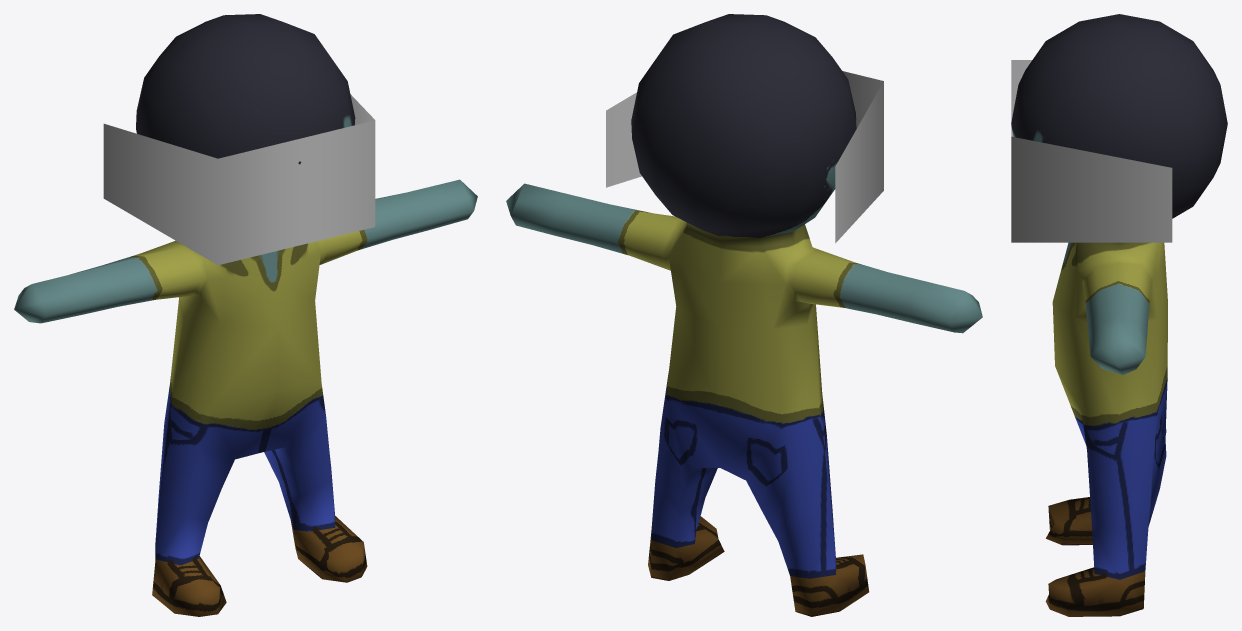
The model's file is Xavier.fbx.
3 views of the same model, side by side, from view 1: azimuth 30°, elevation 25°; view 2: azimuth 150°, elevation 25°; view 3: azimuth 270°, elevation 25° (orthographic). The views are drawn at different scales.
Parts seen in each view (by area): view 1: polySurface7, pPlane1; view 2: polySurface7, pPlane1; view 3: polySurface7, pPlane1.
Part boxes in pixels (x1,y1,x2,y2): polySurface7: (14,14,477,616); pPlane1: (103,94,375,265); polySurface7: (506,14,982,616); pPlane1: (606,71,883,243); polySurface7: (1011,14,1227,616); pPlane1: (1011,60,1172,242).
Size of the model in its own units: 2.16 by 0.8785 by 2.44.
